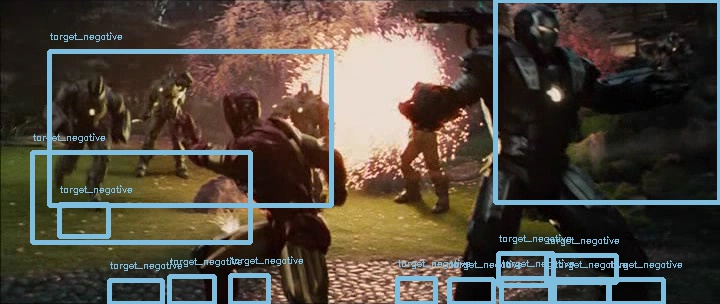person: (220, 84, 256, 128), (219, 84, 255, 128), (221, 84, 257, 128), (220, 83, 256, 127), (220, 85, 256, 129)
target_negative: (361, 173, 668, 283), (136, 144, 575, 205), (506, 209, 595, 293), (256, 147, 304, 205), (680, 46, 697, 197), (569, 147, 574, 285)
